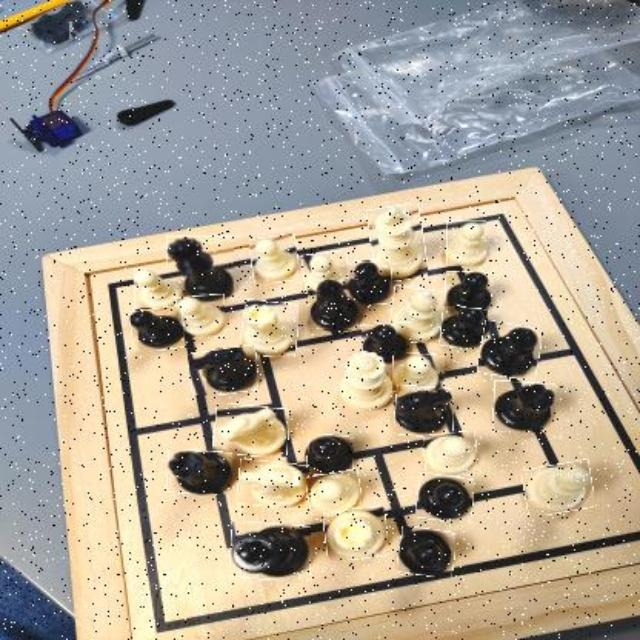black-bishop: (480, 323, 541, 379), (308, 279, 360, 331)
black-king: (231, 524, 311, 580)
black-knight: (189, 347, 259, 396), (395, 387, 455, 437)
black-pawn: (398, 528, 456, 577), (416, 474, 474, 521), (132, 306, 184, 350), (446, 271, 495, 314), (349, 260, 393, 306), (362, 322, 412, 362), (348, 260, 392, 304), (441, 307, 488, 348), (308, 434, 354, 475)
black-queen: (166, 235, 235, 298)
black-rook: (493, 381, 557, 433), (168, 450, 234, 494)
white-bishop: (523, 461, 593, 514), (390, 287, 442, 343)
white-king: (370, 205, 426, 281)
white-knight: (214, 405, 289, 457), (239, 460, 311, 507)
white-pawn: (307, 472, 362, 516), (424, 433, 477, 477), (251, 235, 298, 284), (134, 267, 184, 310), (392, 353, 444, 394), (176, 294, 225, 337), (302, 252, 348, 294), (447, 220, 487, 267)
white-queen: (339, 351, 394, 412)
white-rook: (325, 508, 389, 560), (241, 300, 299, 356)
